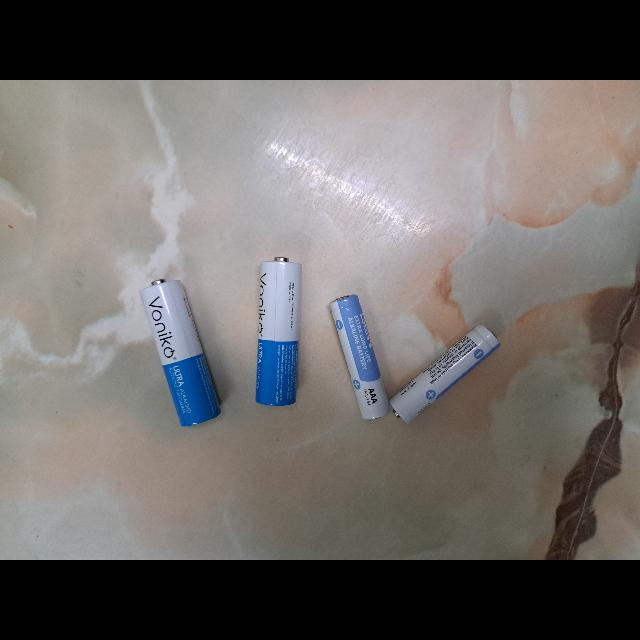bateria: (141, 278, 221, 428), (390, 324, 502, 426), (330, 293, 390, 421), (254, 257, 302, 407)
